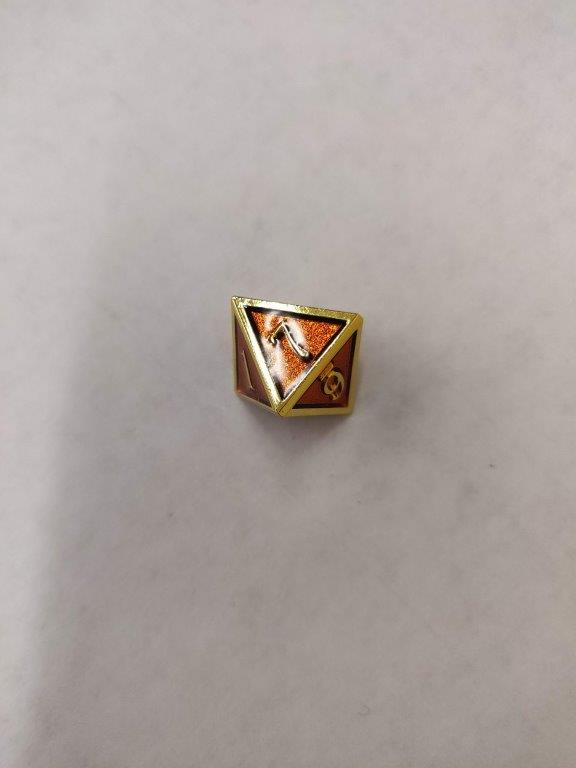d8-7: (227, 294, 362, 427)
